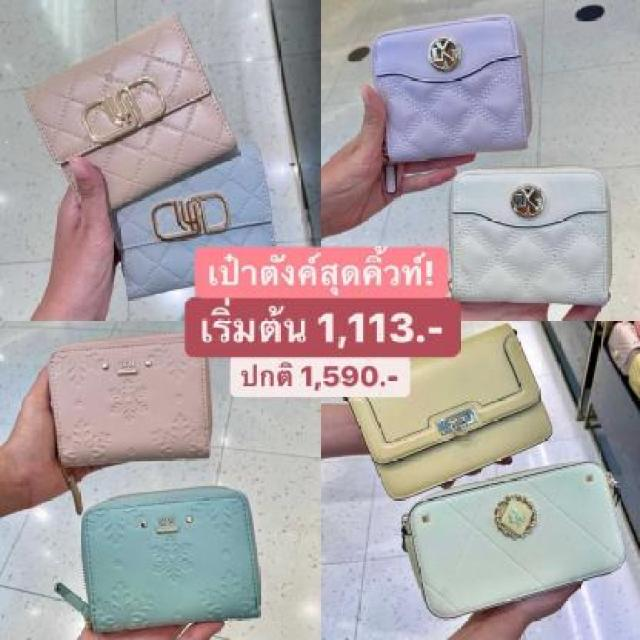Bag: (0, 2, 258, 220), (325, 321, 573, 505), (400, 466, 640, 639), (24, 487, 279, 633), (14, 324, 238, 476), (423, 159, 637, 313), (90, 146, 292, 305), (354, 14, 548, 175)
